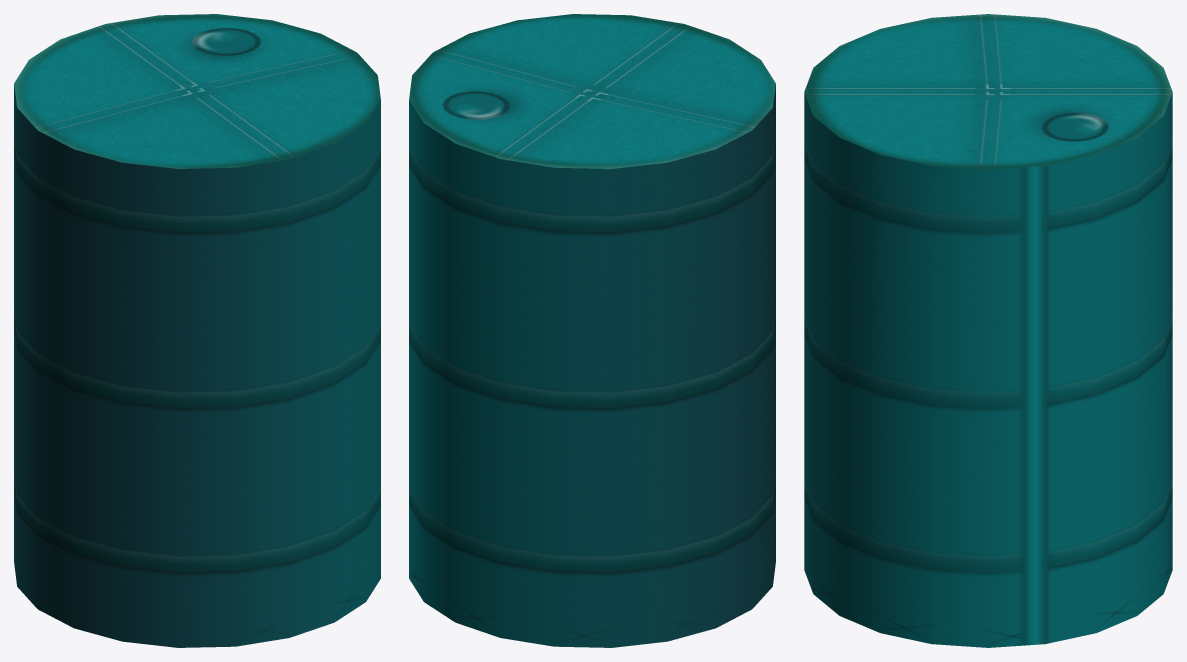
The model's file is Barrel_03.fbx.
3 renders of one model, left to right at view 1: azimuth 30°, elevation 25°; view 2: azimuth 150°, elevation 25°; view 3: azimuth 270°, elevation 25°, orthographic.
Visible parts, largest first — view 1: Barrel_03; view 2: Barrel_03; view 3: Barrel_03.
Part boxes in pixels (<box>): Barrel_03: <box>14,14,380,647</box>; Barrel_03: <box>409,14,775,647</box>; Barrel_03: <box>804,14,1172,647</box>.
Size of the model in its own units: 1.96 by 2.81 by 1.96.
